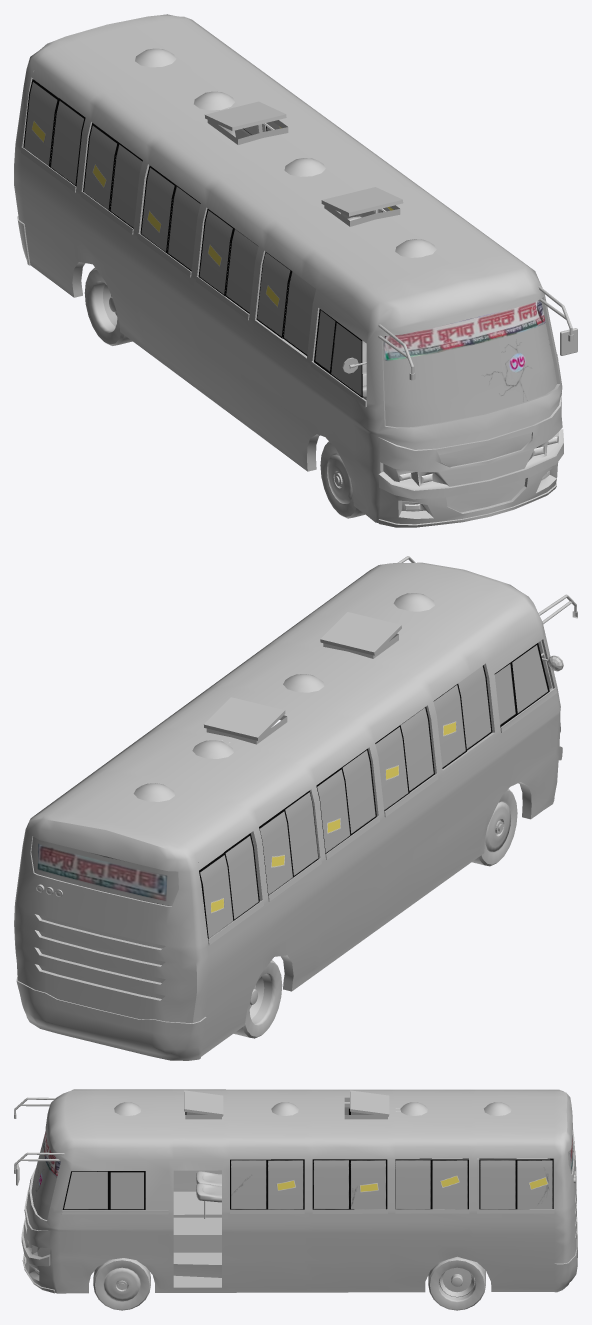
The model's file is Bus.fbx.
The picture shows the model from 3 angles, top to bottom: view 1: azimuth 30°, elevation 25°; view 2: azimuth 150°, elevation 25°; view 3: azimuth 270°, elevation 25°; orthographic projection. The views are drawn at different scales.
Visible parts, largest first — view 1: model_0; view 2: model_0; view 3: model_0.
Boxes of the visible parts, <box> form: model_0: <box>14,14,577,527</box>; model_0: <box>14,556,577,1060</box>; model_0: <box>14,1089,577,1310</box>.
Size of the model in its own units: 911 by 1084 by 3015.
